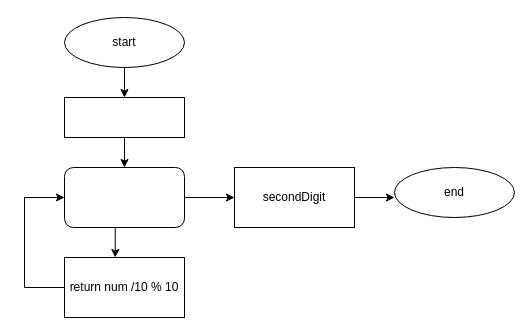
This 532x335 diagram has some shape labels left out. The centre of each missing label's shape, as x and y in pixels:
"num=852" goes at pixel 124 117.
"secondDigit = getSecondDigit(num)" goes at pixel 124 197.
